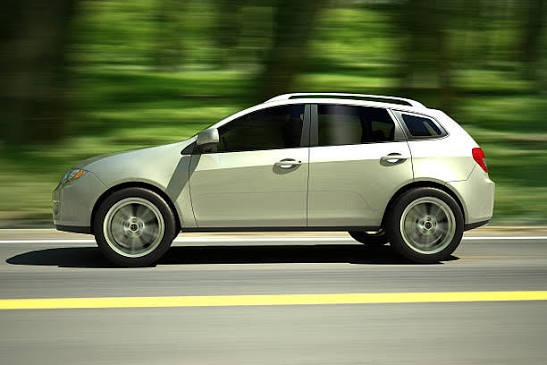car: (44, 96, 508, 263)
